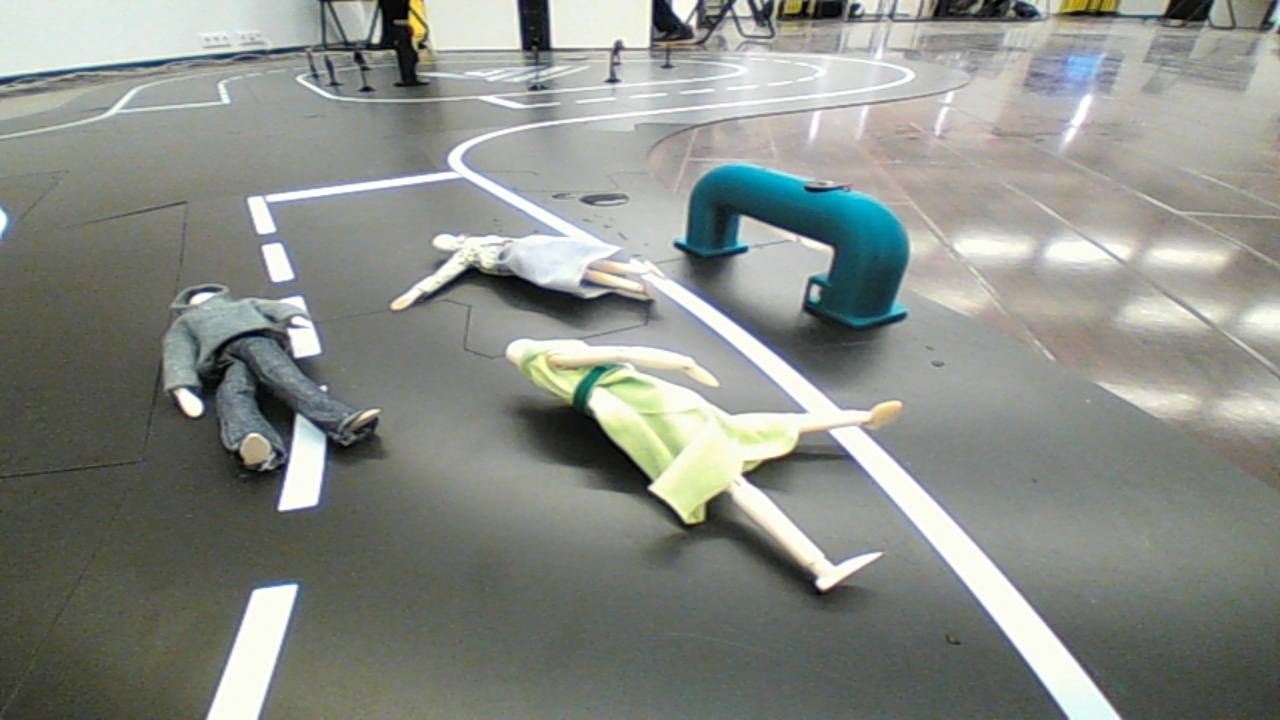Pedestrian crossing: (670, 146, 924, 335)
Road works: (481, 326, 924, 601), (128, 276, 399, 484), (376, 219, 691, 332)
